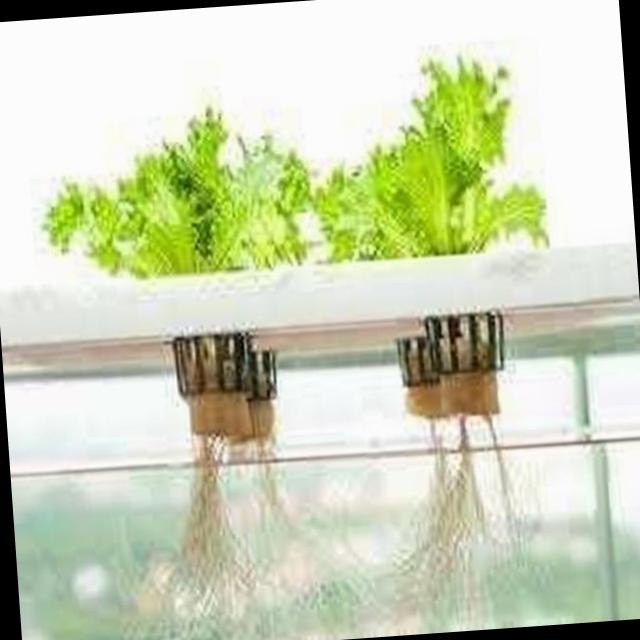Lettuce-Ready-to-Harvest: (315, 57, 546, 260), (44, 108, 309, 276)
